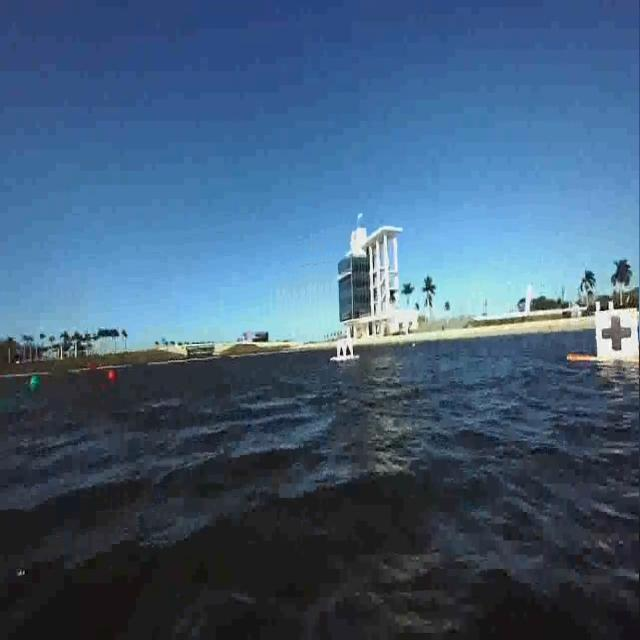green-buoy: (30, 375, 41, 393)
